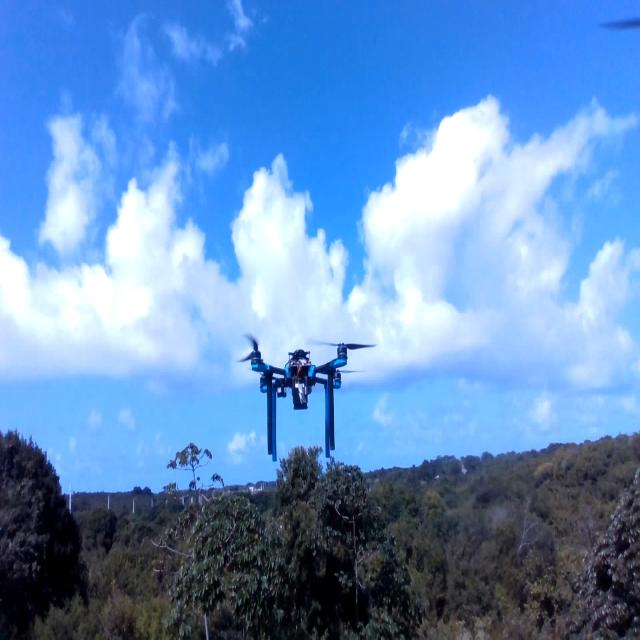-uav-: (223, 310, 419, 483)
